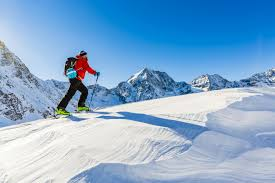skis: (46, 106, 109, 122)
